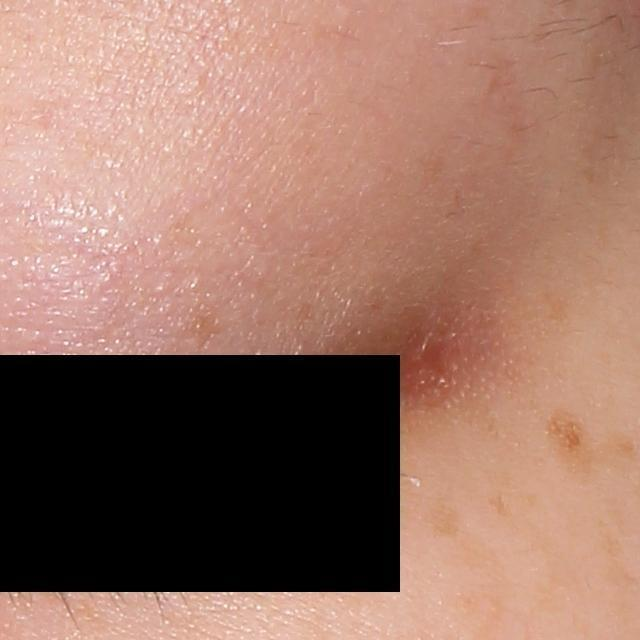melasma: (546, 406, 595, 471), (421, 504, 463, 540), (607, 433, 638, 464)
